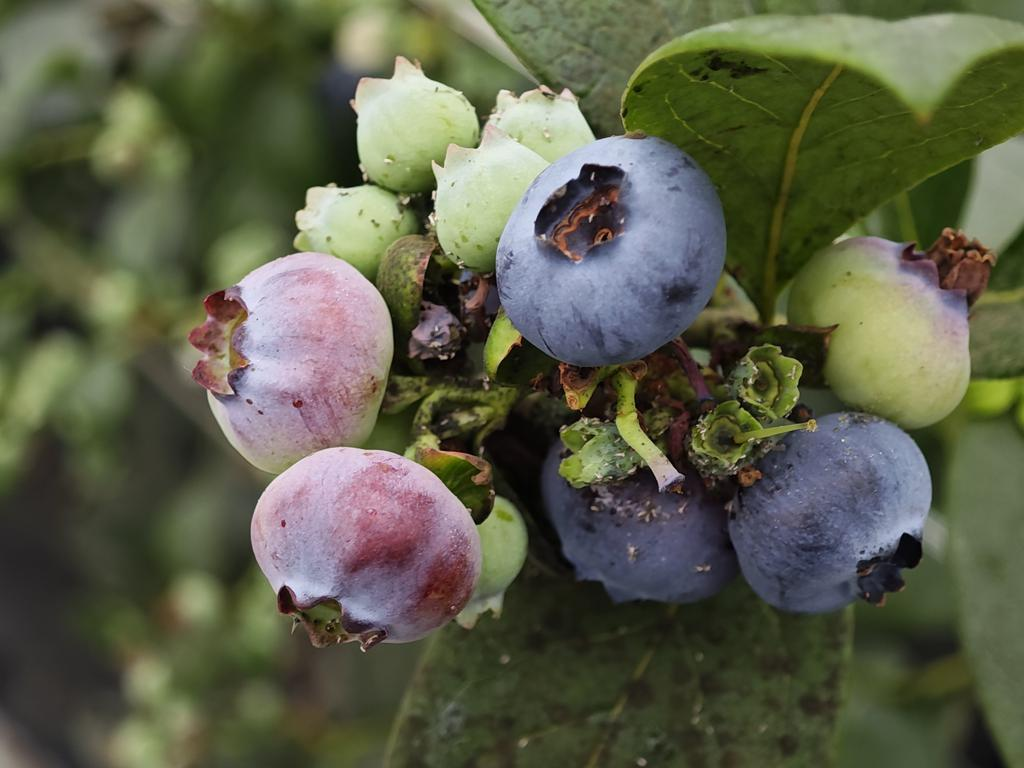RipeBlueBerry: (494, 132, 731, 368), (727, 408, 937, 619)
Semi-RipeBlueBerry: (245, 440, 487, 649), (192, 248, 396, 470)
